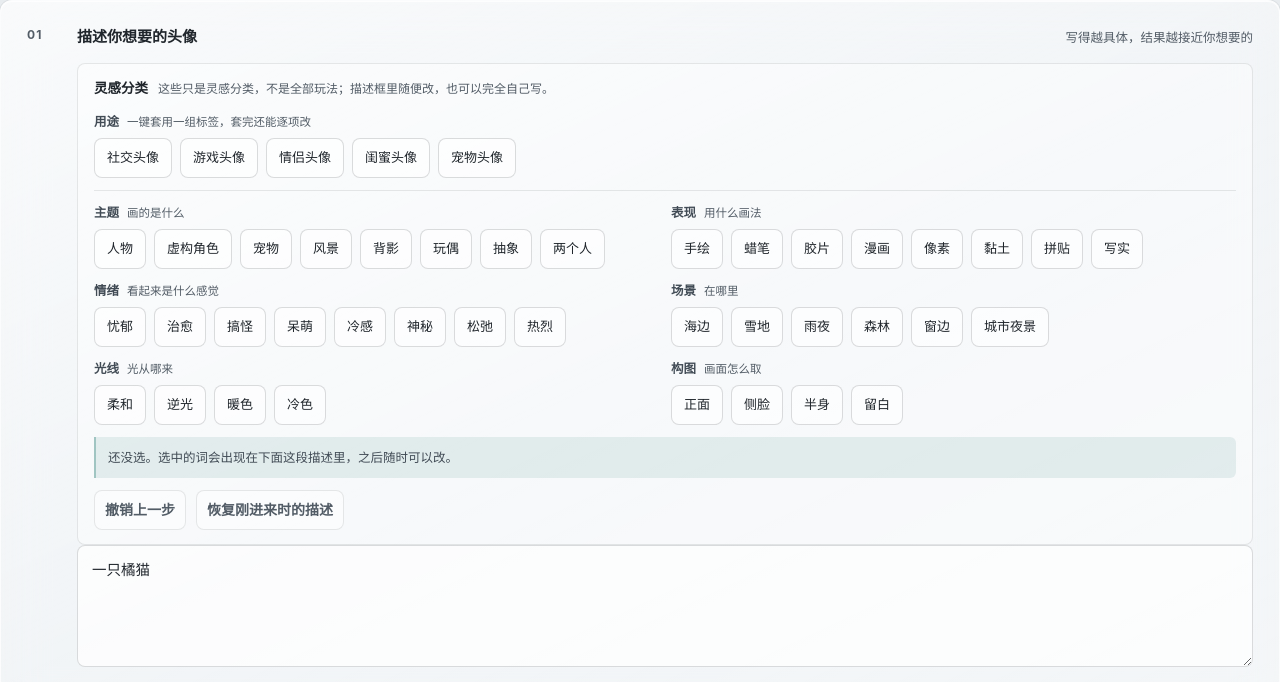
Test: 创作台的灵感分类 › 点选前先说清会发生什么
The image size is (1280, 682).
Expected: the text "还没选。选中的词会出现在下面这段描述里，之后随时可以改。" is shown, [94,437,1236,478]
Click the button "治愈": click(180, 327) [154,307,206,347]
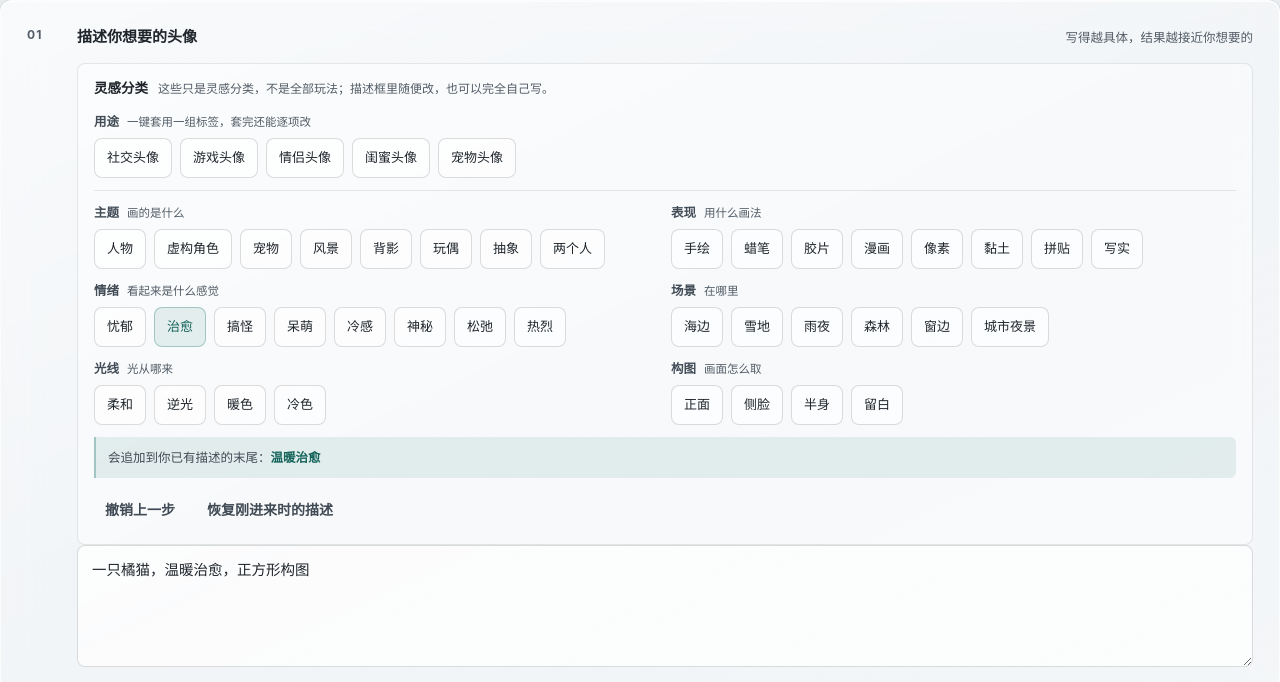
Now the text "会追加到你已有描述的末尾：温暖治愈" is shown, box [94,437,1236,478]
